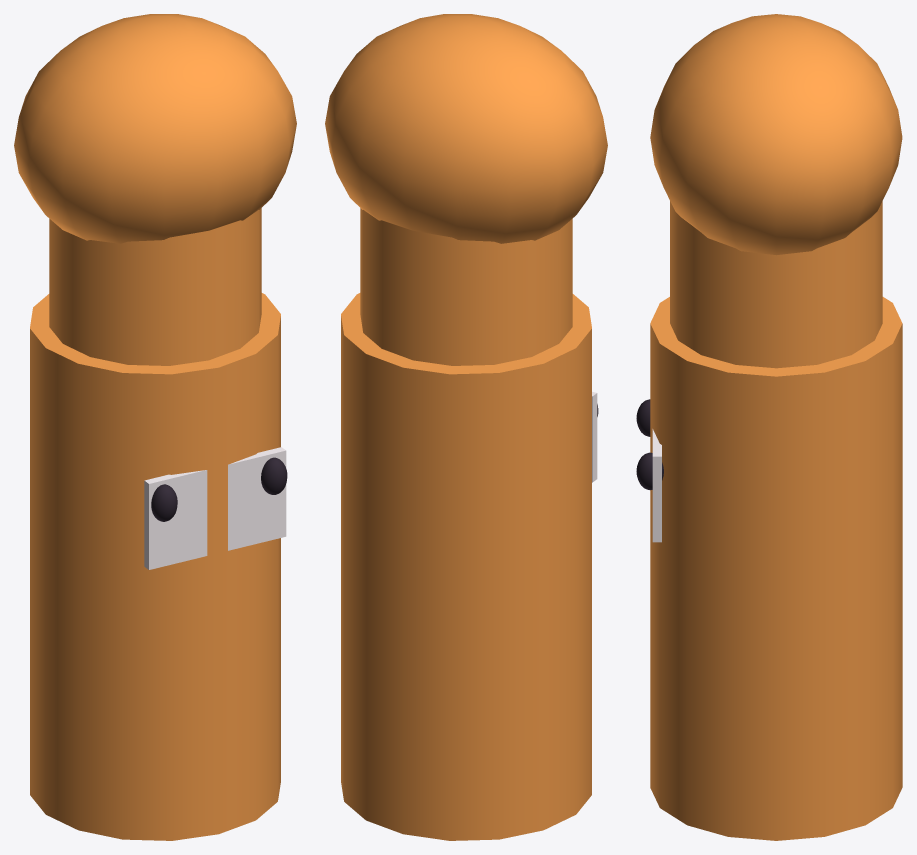
File: TRD-06-03.glb
3 views of the same model, side by side, from view 1: azimuth 30°, elevation 25°; view 2: azimuth 150°, elevation 25°; view 3: azimuth 270°, elevation 25° (orthographic).
Parts seen in each view (by area): view 1: TRD-06-03; view 2: TRD-06-03; view 3: TRD-06-03.
Boxes of the visible parts, bbox=[...] form: TRD-06-03: bbox=[14, 14, 296, 840]; TRD-06-03: bbox=[325, 14, 607, 840]; TRD-06-03: bbox=[636, 14, 902, 840].
Size of the model in its own units: 0.37 by 1.06 by 0.3375.
